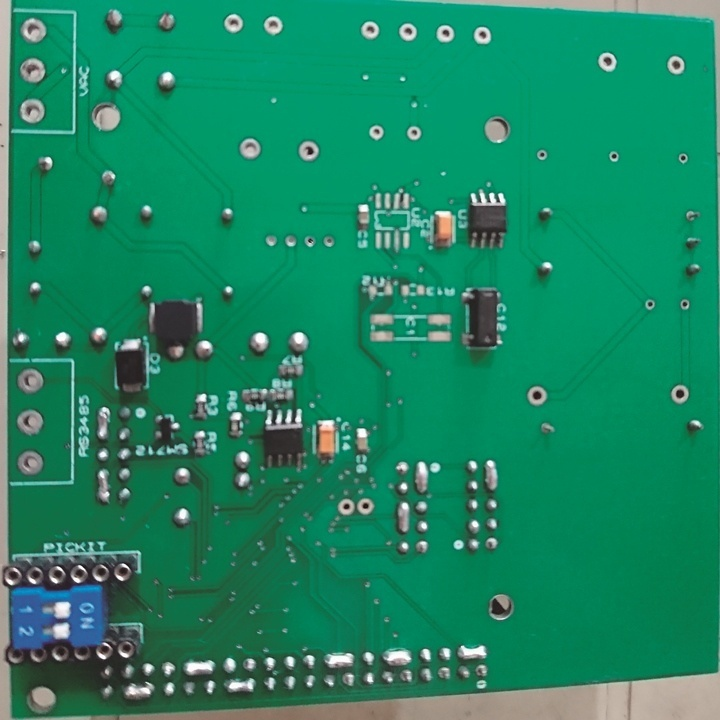F: (14, 408, 47, 440), (14, 368, 49, 396), (19, 16, 50, 46), (17, 98, 49, 127), (17, 57, 47, 86), (16, 450, 47, 478), (296, 138, 323, 163), (596, 49, 621, 75), (261, 12, 284, 39), (526, 384, 550, 408), (222, 10, 245, 35), (238, 137, 261, 160), (668, 382, 690, 406), (359, 19, 381, 43), (664, 52, 686, 75), (396, 20, 418, 43), (433, 23, 456, 45), (472, 23, 493, 46), (354, 495, 373, 518), (336, 497, 355, 519), (537, 420, 559, 439), (404, 123, 424, 142), (283, 229, 299, 250), (483, 535, 501, 553), (240, 657, 259, 674), (159, 660, 176, 679), (393, 458, 410, 477), (368, 123, 385, 142), (319, 233, 336, 251), (683, 208, 703, 223), (302, 232, 317, 252), (264, 231, 280, 249), (414, 537, 429, 555), (436, 666, 451, 683), (342, 672, 356, 688), (678, 298, 693, 312), (607, 149, 621, 164), (475, 662, 488, 678), (399, 669, 413, 683), (644, 297, 657, 311), (677, 151, 690, 165), (536, 149, 549, 163)
P: (452, 643, 489, 663), (381, 646, 413, 668), (119, 683, 155, 702), (181, 658, 216, 677), (322, 651, 356, 669), (95, 468, 112, 503), (414, 460, 430, 495), (96, 406, 112, 440), (226, 678, 256, 695), (484, 459, 499, 491), (397, 500, 410, 536)
